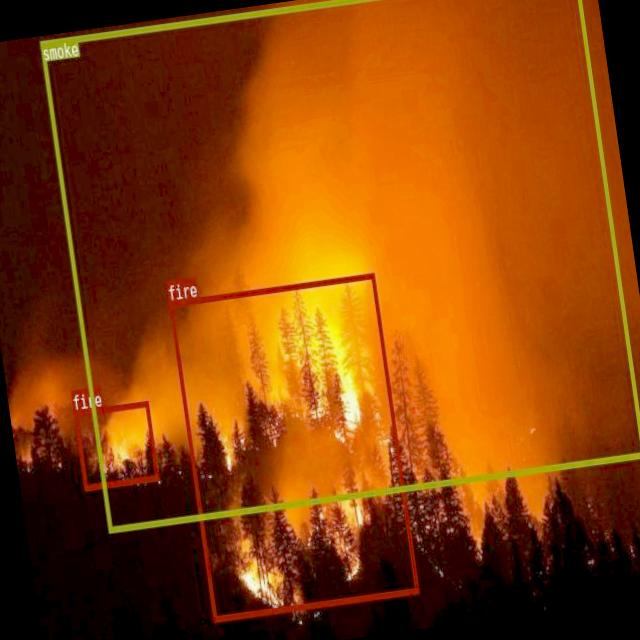fire: (168, 273, 418, 622), (73, 399, 158, 490)
smoke: (39, 0, 640, 531)
